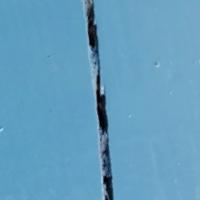crack: (62, 0, 146, 199)
